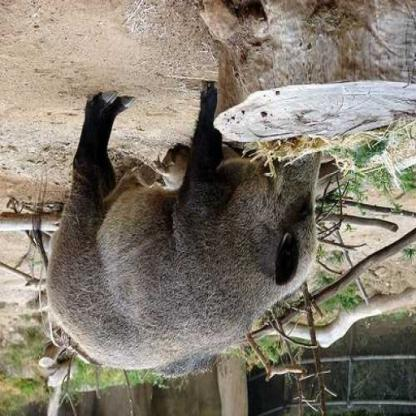boar: (16, 67, 369, 394)
